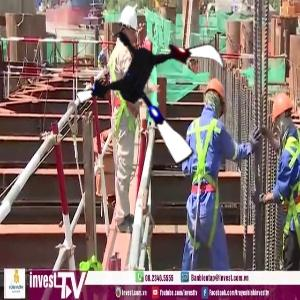drone: (75, 13, 236, 174)
